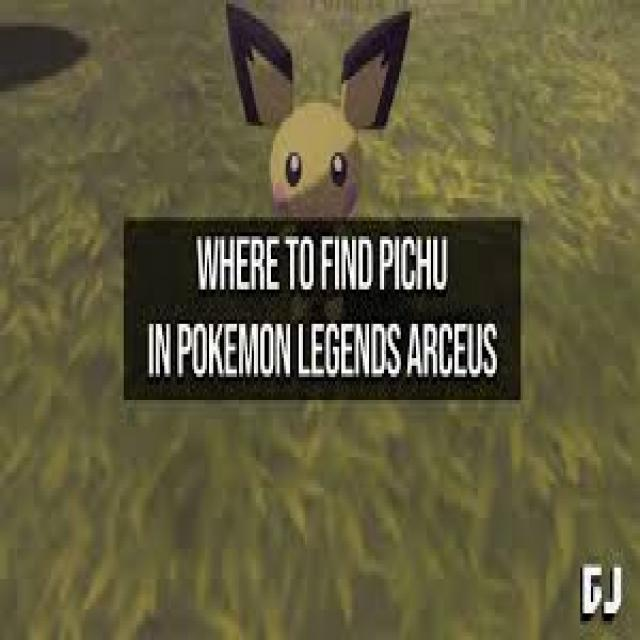pichu: (218, 0, 420, 218)
